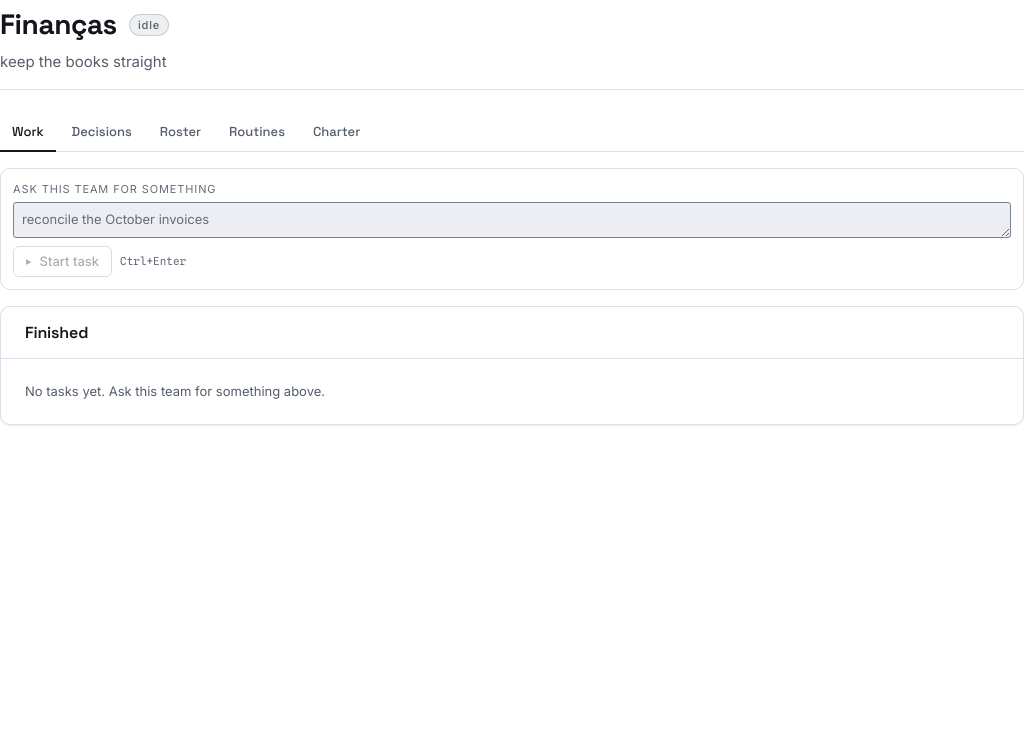
it: Bench - Routines › fills the write-a-rule form from the rule that was duplicated
Press the mouse on the tab "Routines" at (257, 133), box [217, 114, 297, 152]
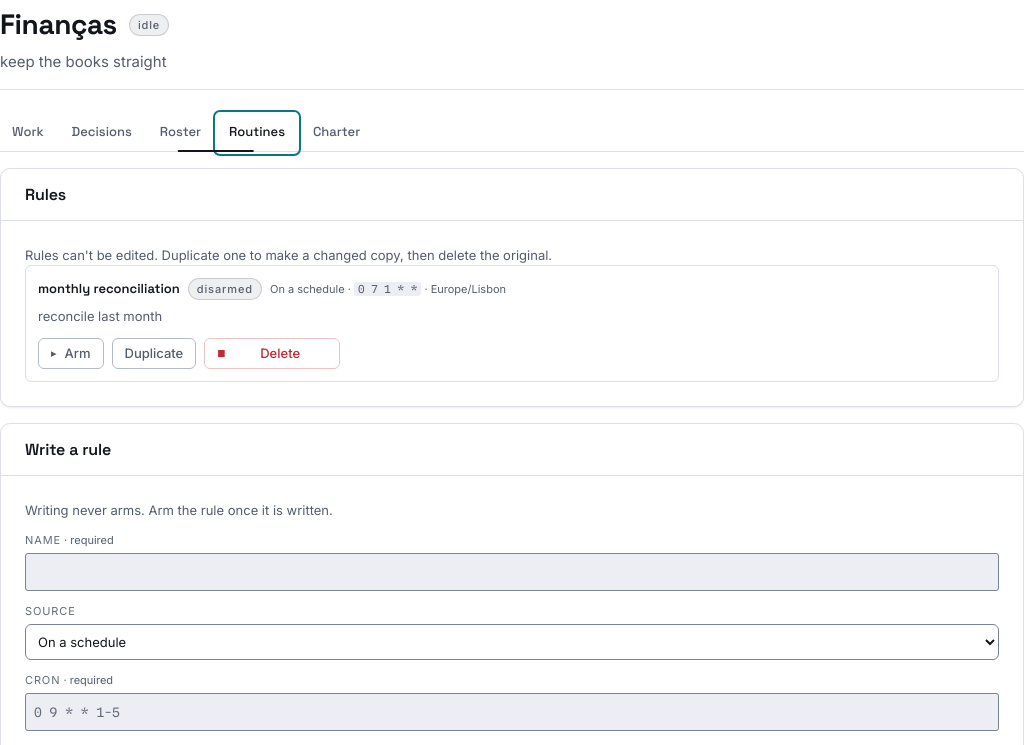
Click the button "Duplicate" at (154, 353), box [112, 338, 196, 369]
(page scrolled)
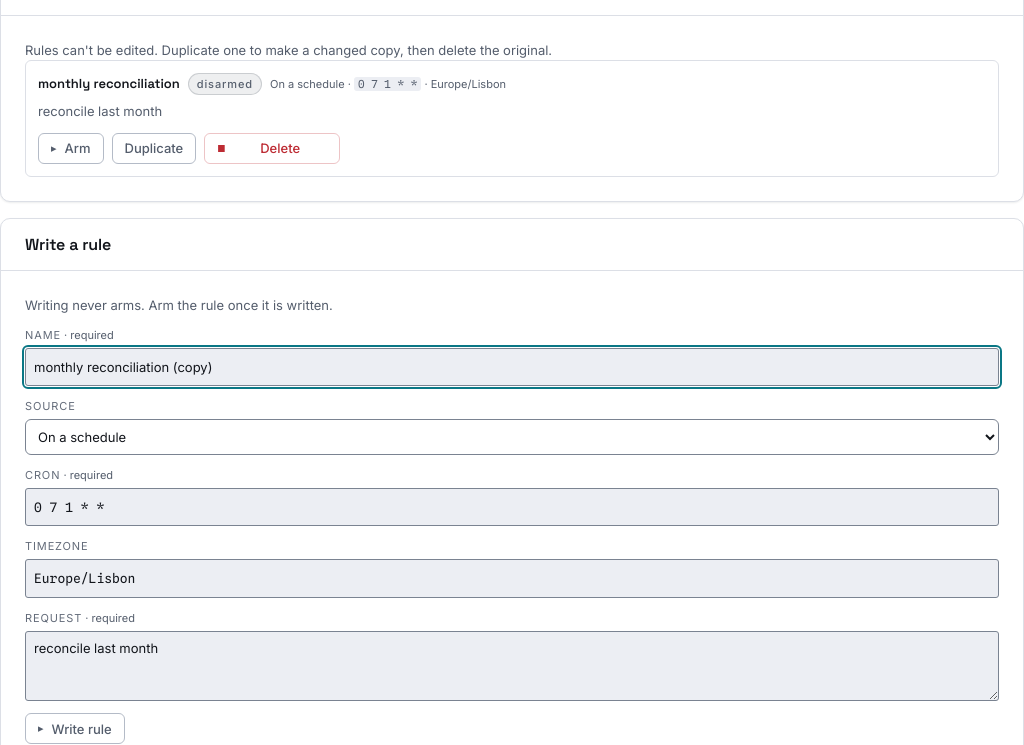
Check: the field labelled "Name" holds "monthly reconciliation (copy)", box [25, 348, 999, 386]
Check: the field labelled "Cron" holds "0 7 1 * *", box [25, 488, 999, 526]
Check: the text box labelled "Request" holds "reconcile last month", box [25, 631, 999, 701]
